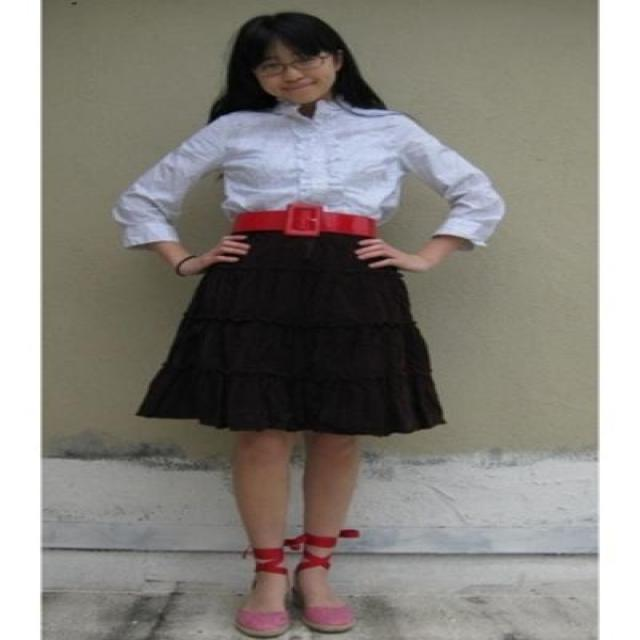shirt: (114, 100, 504, 246)
shoe: (229, 532, 350, 639)
skirt: (136, 230, 445, 437)
